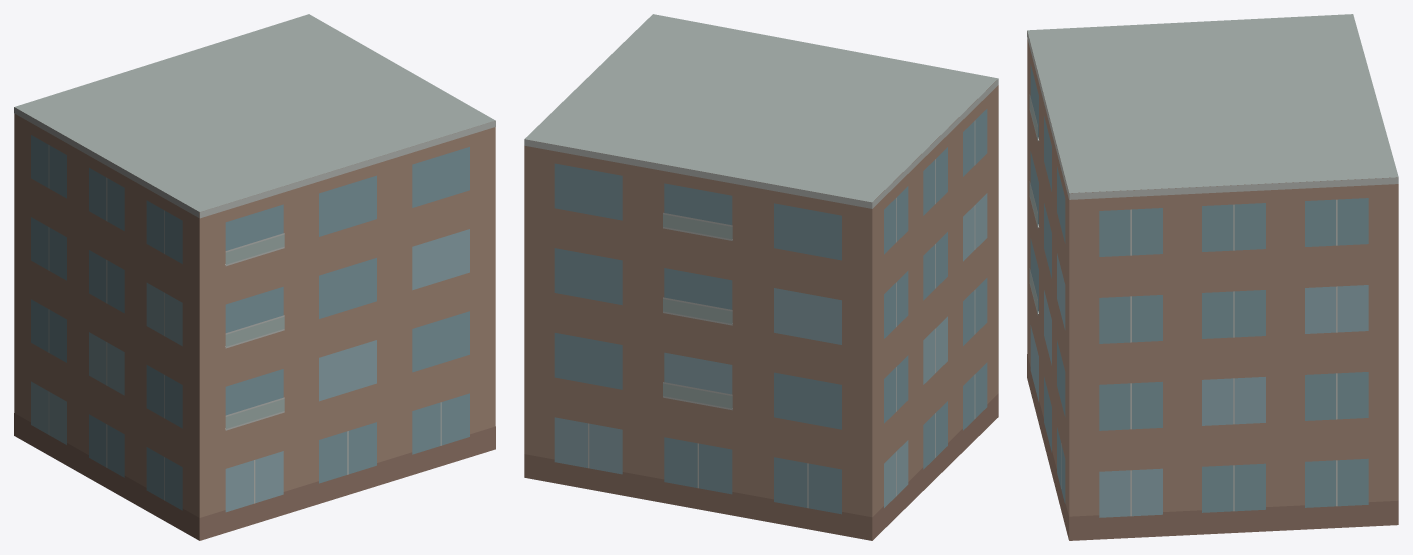
File: survey-upis-33010836.glb
3 views of the same model, side by side, from view 1: azimuth 30°, elevation 25°; view 2: azimuth 150°, elevation 25°; view 3: azimuth 270°, elevation 25° (orthographic). The views are drawn at different scales.
Parts seen in each view (by area): view 1: survey-upis-33010836.tmp; view 2: survey-upis-33010836.tmp; view 3: survey-upis-33010836.tmp.
Boxes of the visible parts, x1,y1,x2,y2 form: survey-upis-33010836.tmp: (14,14,495,540); survey-upis-33010836.tmp: (524,14,998,540); survey-upis-33010836.tmp: (1027,14,1398,540).
Bounding box in the file's own units: 14.05 × 12.7 × 12.31.
